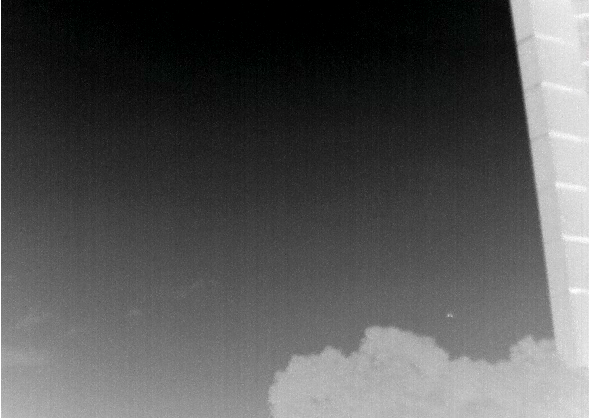dim target: (447, 312, 454, 318)
